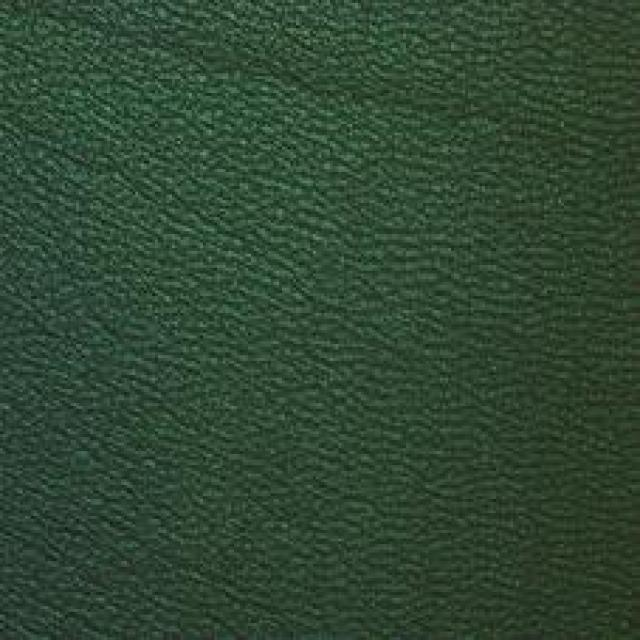Growth Marks: (212, 26, 540, 175)
